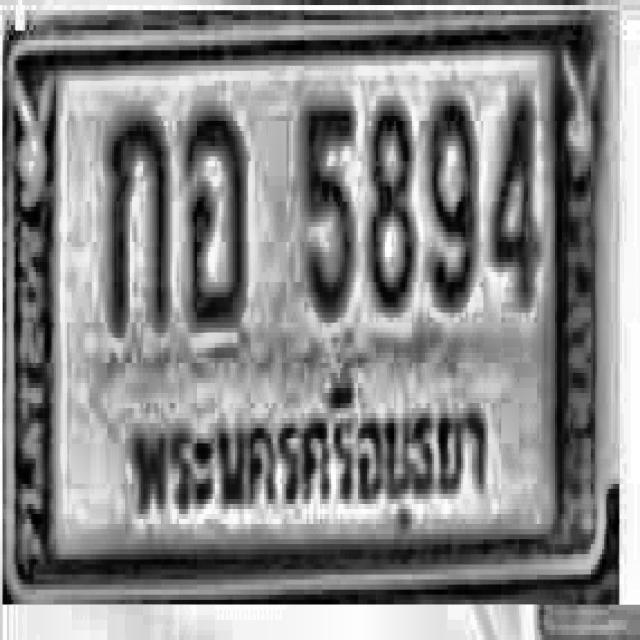license-plate: (2, 0, 604, 584)
